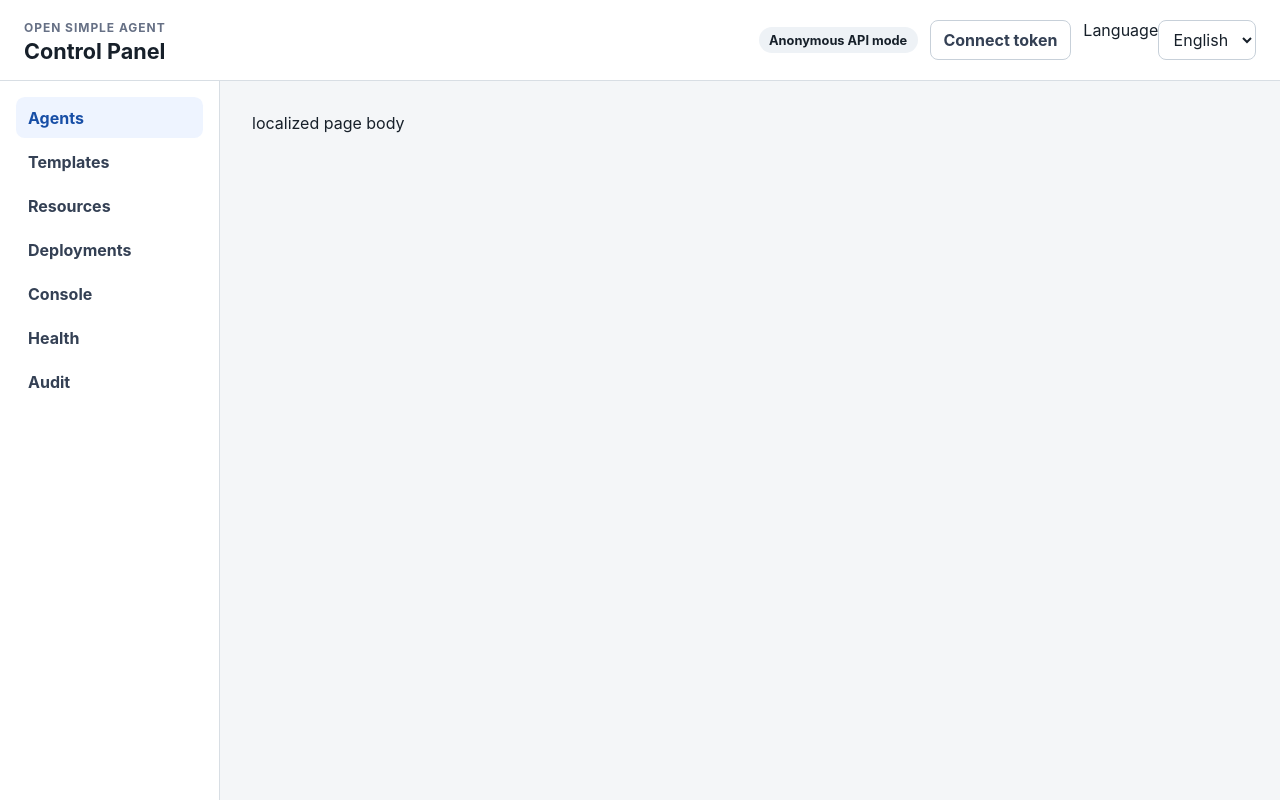
it: LocaleProvider › switches the shared shell to Arabic and applies RTL direction
Step 1. Select "العربية" in the dropdown labelled "Language" → (1207, 40), box top-left (1158, 20), bottom-right (1256, 60)
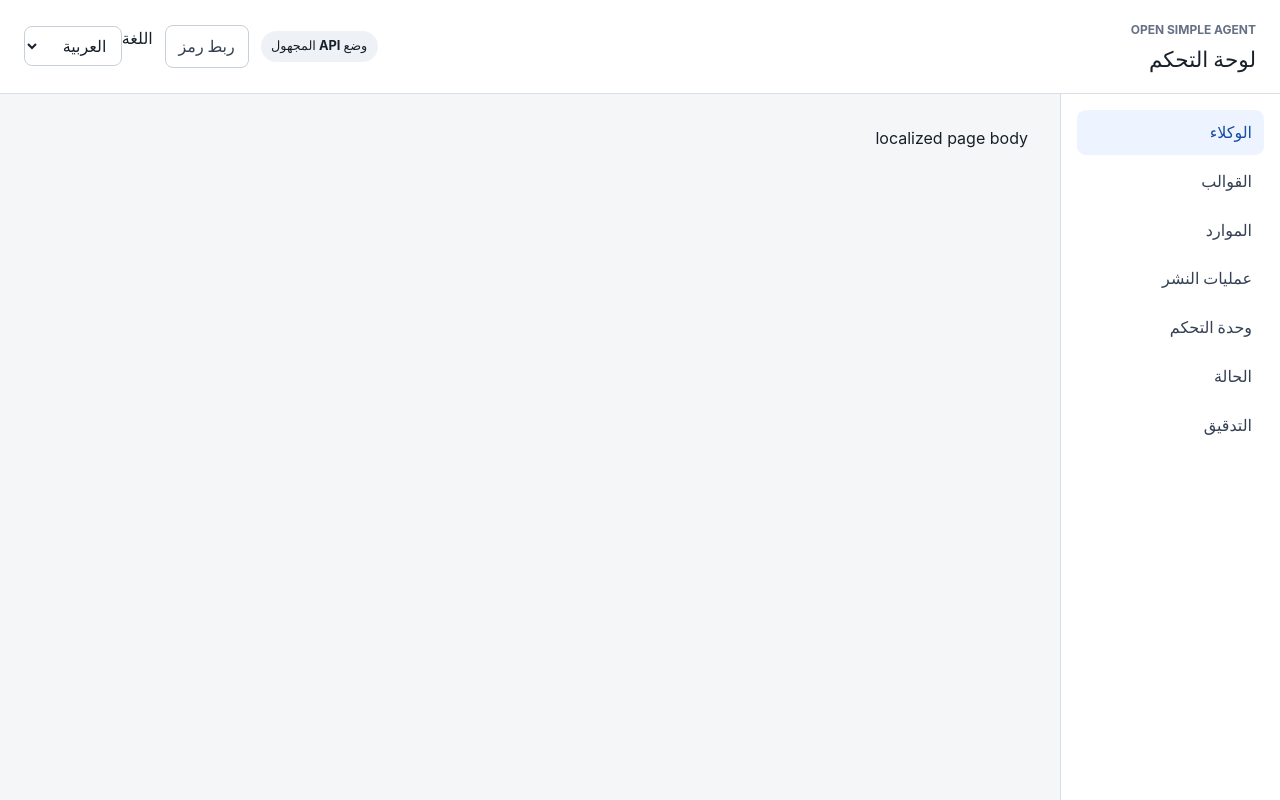
Check: the link "الوكلاء" is shown, box top-left (1077, 110), bottom-right (1264, 155)
Check: the link "التدقيق" is shown, box top-left (1204, 415), bottom-right (1252, 435)
